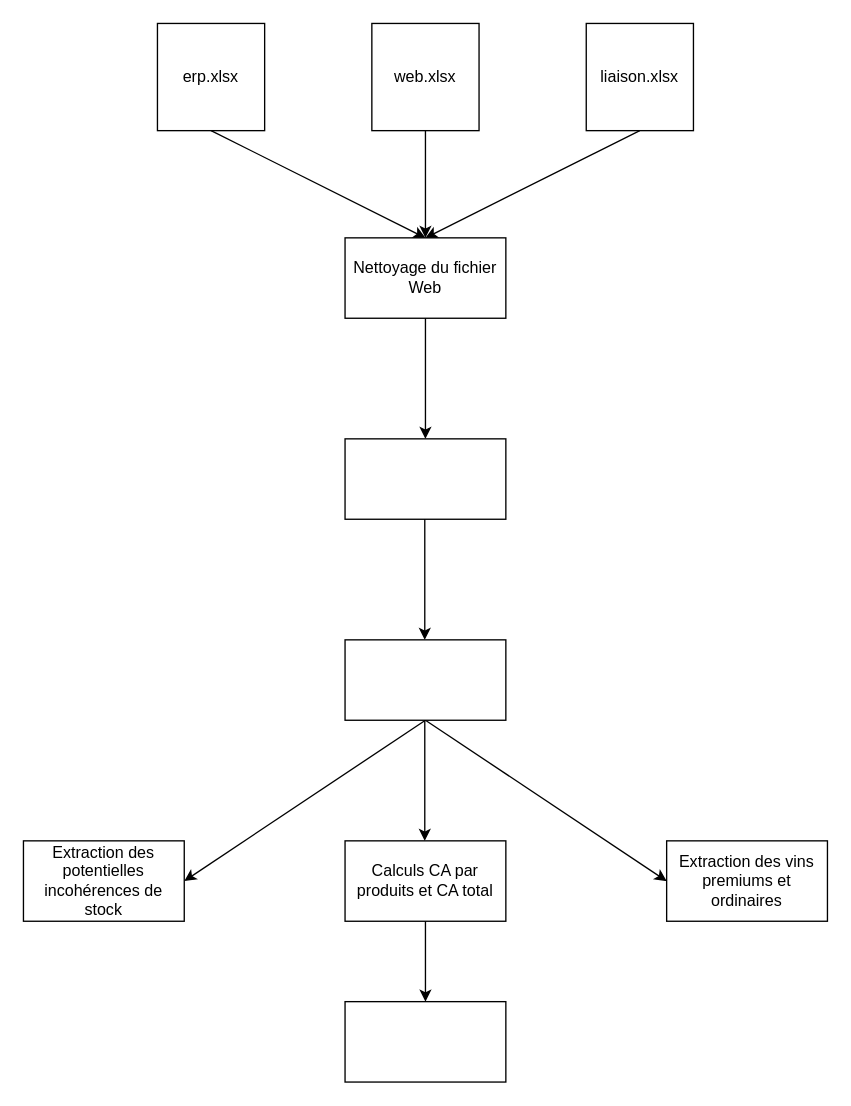
Image size: 851x1106. Some labels were removed from this diagram. Each missing label, with the centre of its shape:
Génération excel CA total et par produits: point (425, 1041)
Jointure via fichier liaison.xlsx: point (425, 478)
Pipeline de données via Kestra: point (425, 679)
